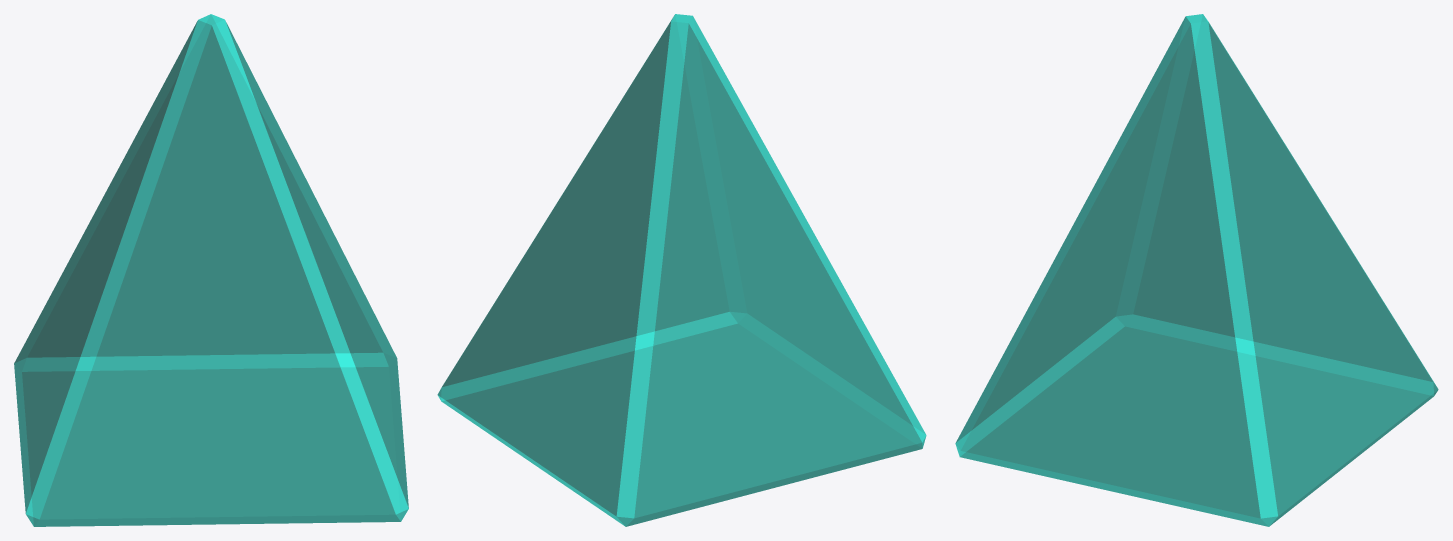
The model's file is PYRAMID_ALPHA.glb.
The picture shows the model from 3 angles, left to right: view 1: azimuth 30°, elevation 25°; view 2: azimuth 150°, elevation 25°; view 3: azimuth 270°, elevation 25°; orthographic projection. The views are drawn at different scales.
Visible parts, largest first — view 1: Cone; view 2: Cone; view 3: Cone.
Part boxes in pixels (x1,y1,x2,y2): Cone: (14, 14, 408, 526); Cone: (437, 14, 926, 526); Cone: (955, 14, 1438, 526).
Bounding box in the file's own units: 2.13 × 1.99 × 2.13.
1 material, 1 textured.
